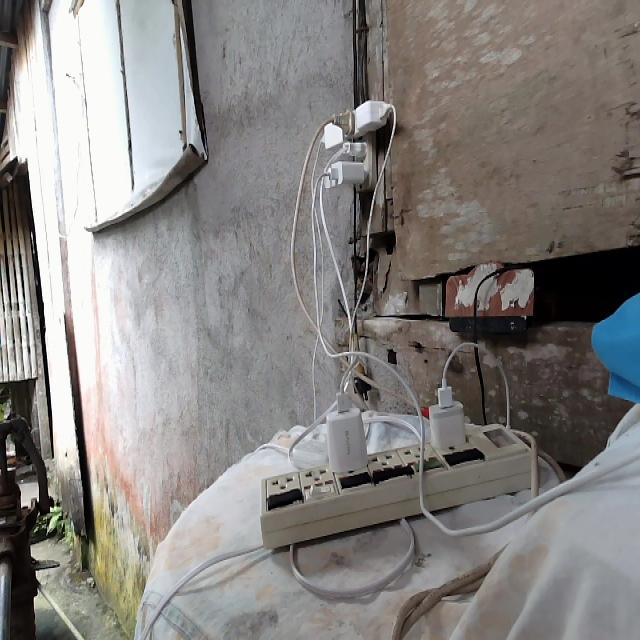-: (316, 94, 399, 194)
